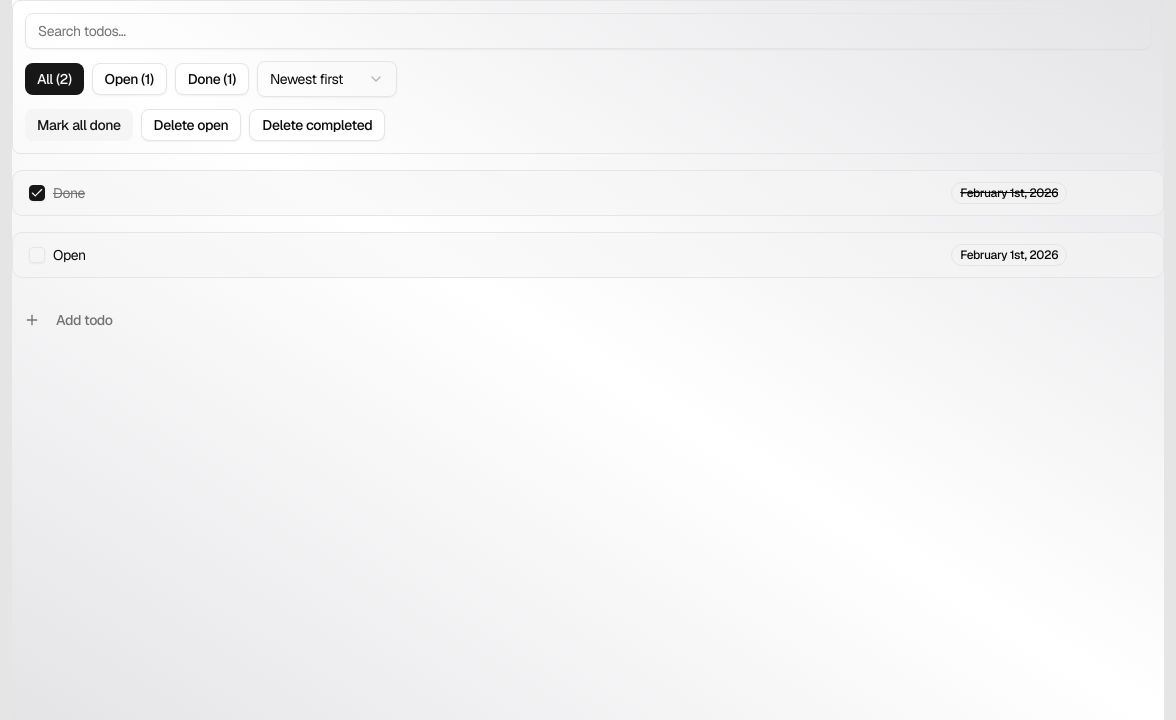
it: TodoList integration › should delete completed todos with bulk action and restore with undo
Check: the text "Done" is shown, box [53,183,85,203]
Click the button "Delete completed" at (317, 125), box [249,109,385,141]
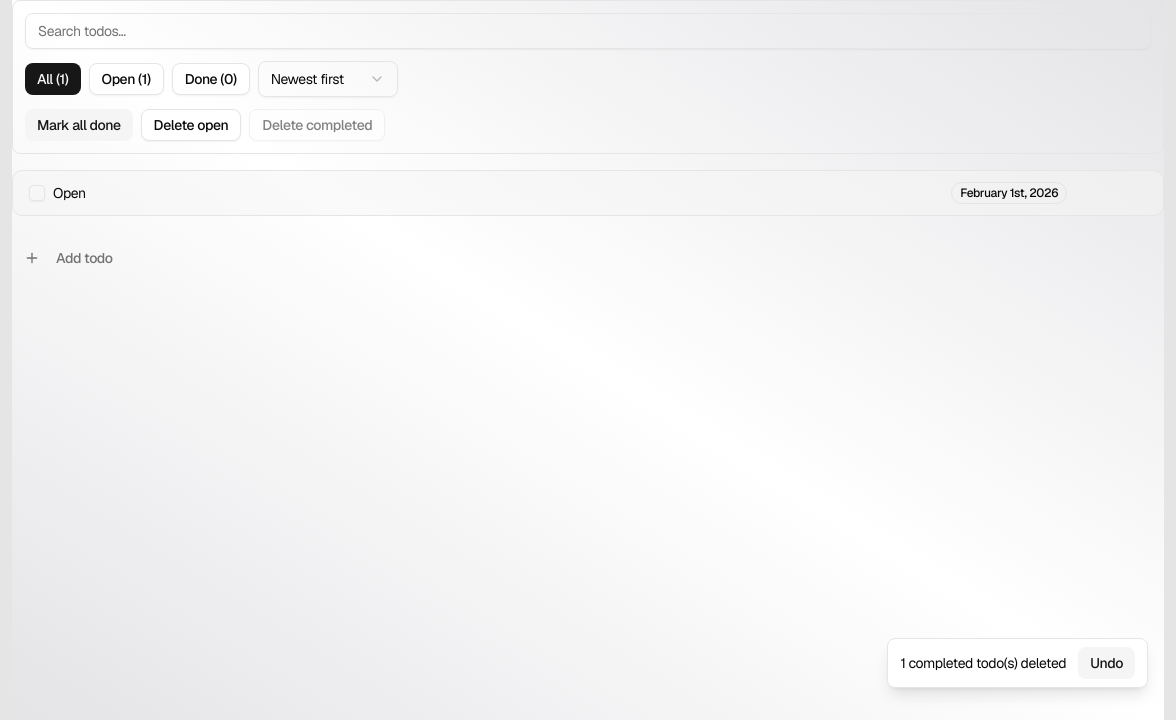
Check: the text "1 completed todo(s) deleted" is shown, box [900,653,1066,673]
Click the button "Undo" at (1107, 663), box [1078,647,1135,679]
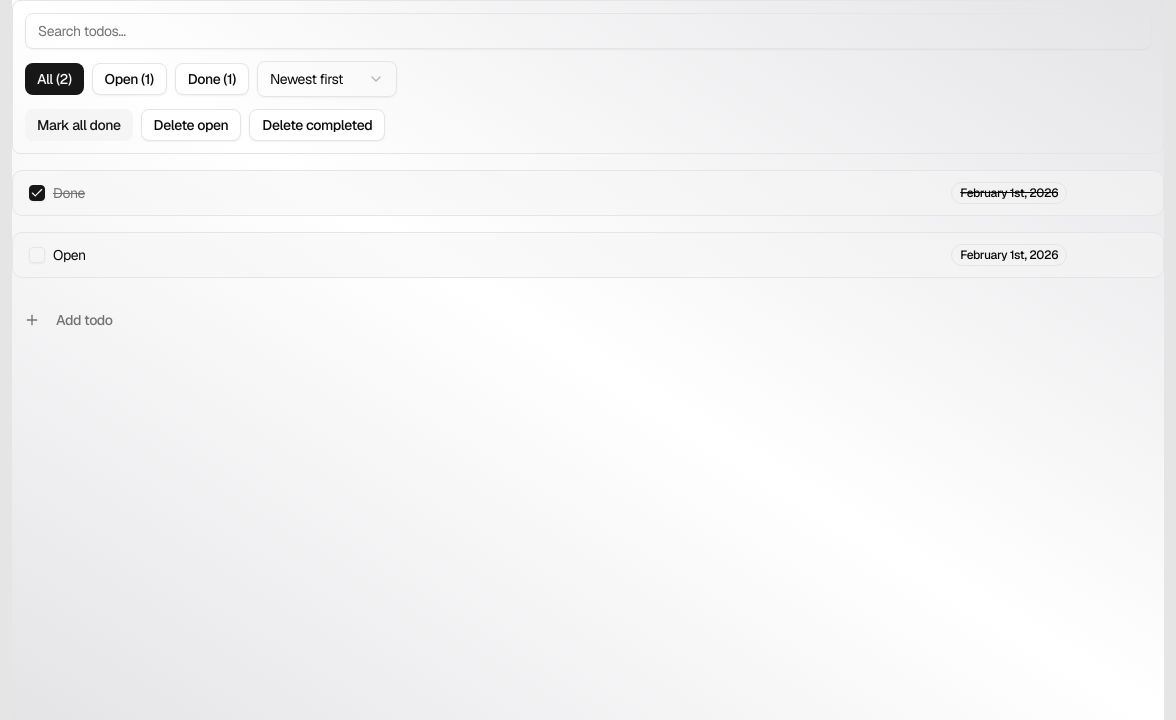
Check: the text "Done" is shown, box [53,183,85,203]
